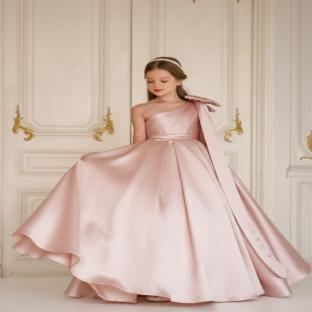Human: (13, 57, 310, 303)
